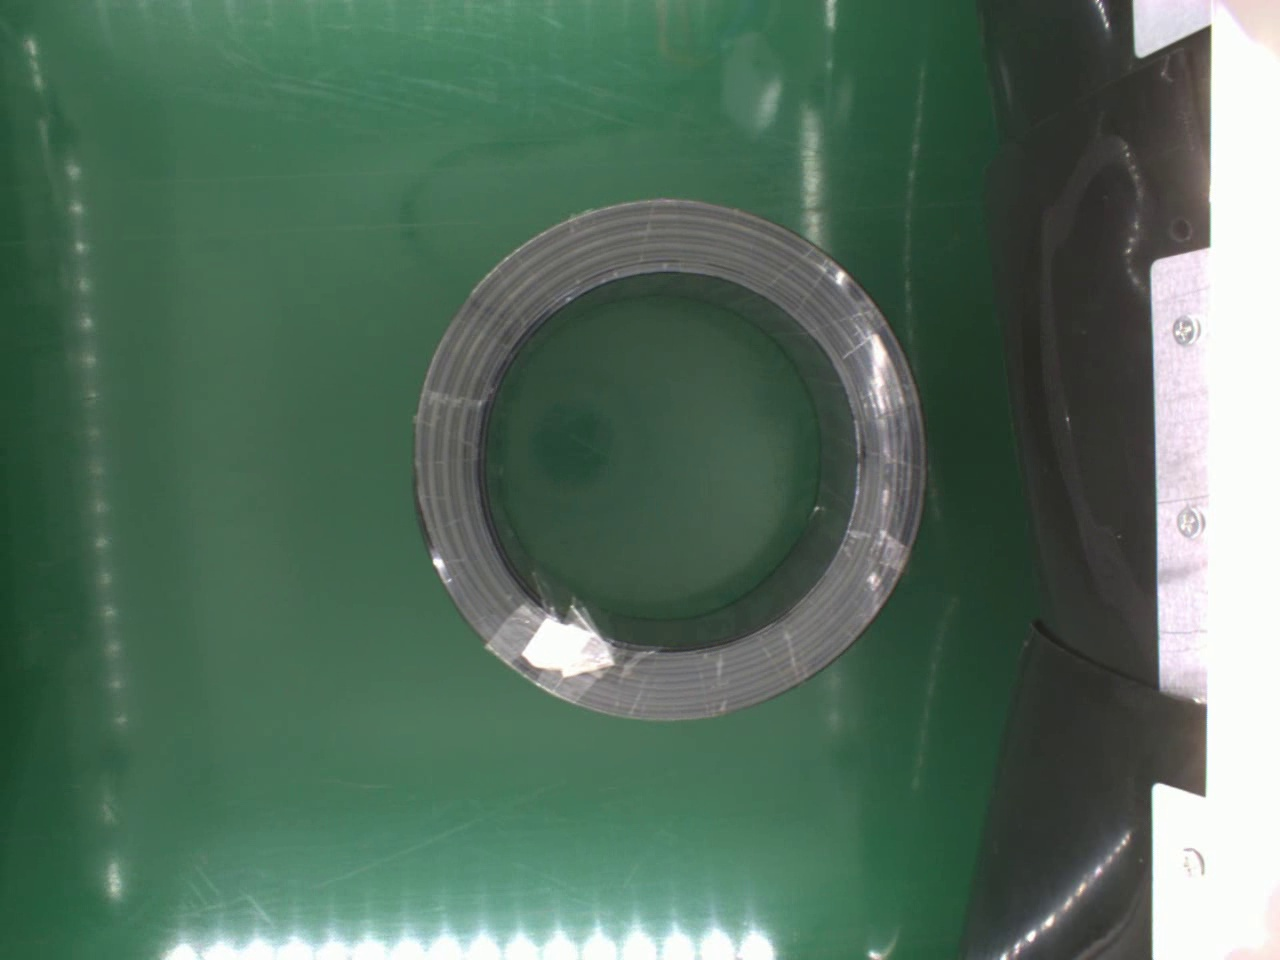black: (408, 192, 935, 740)
